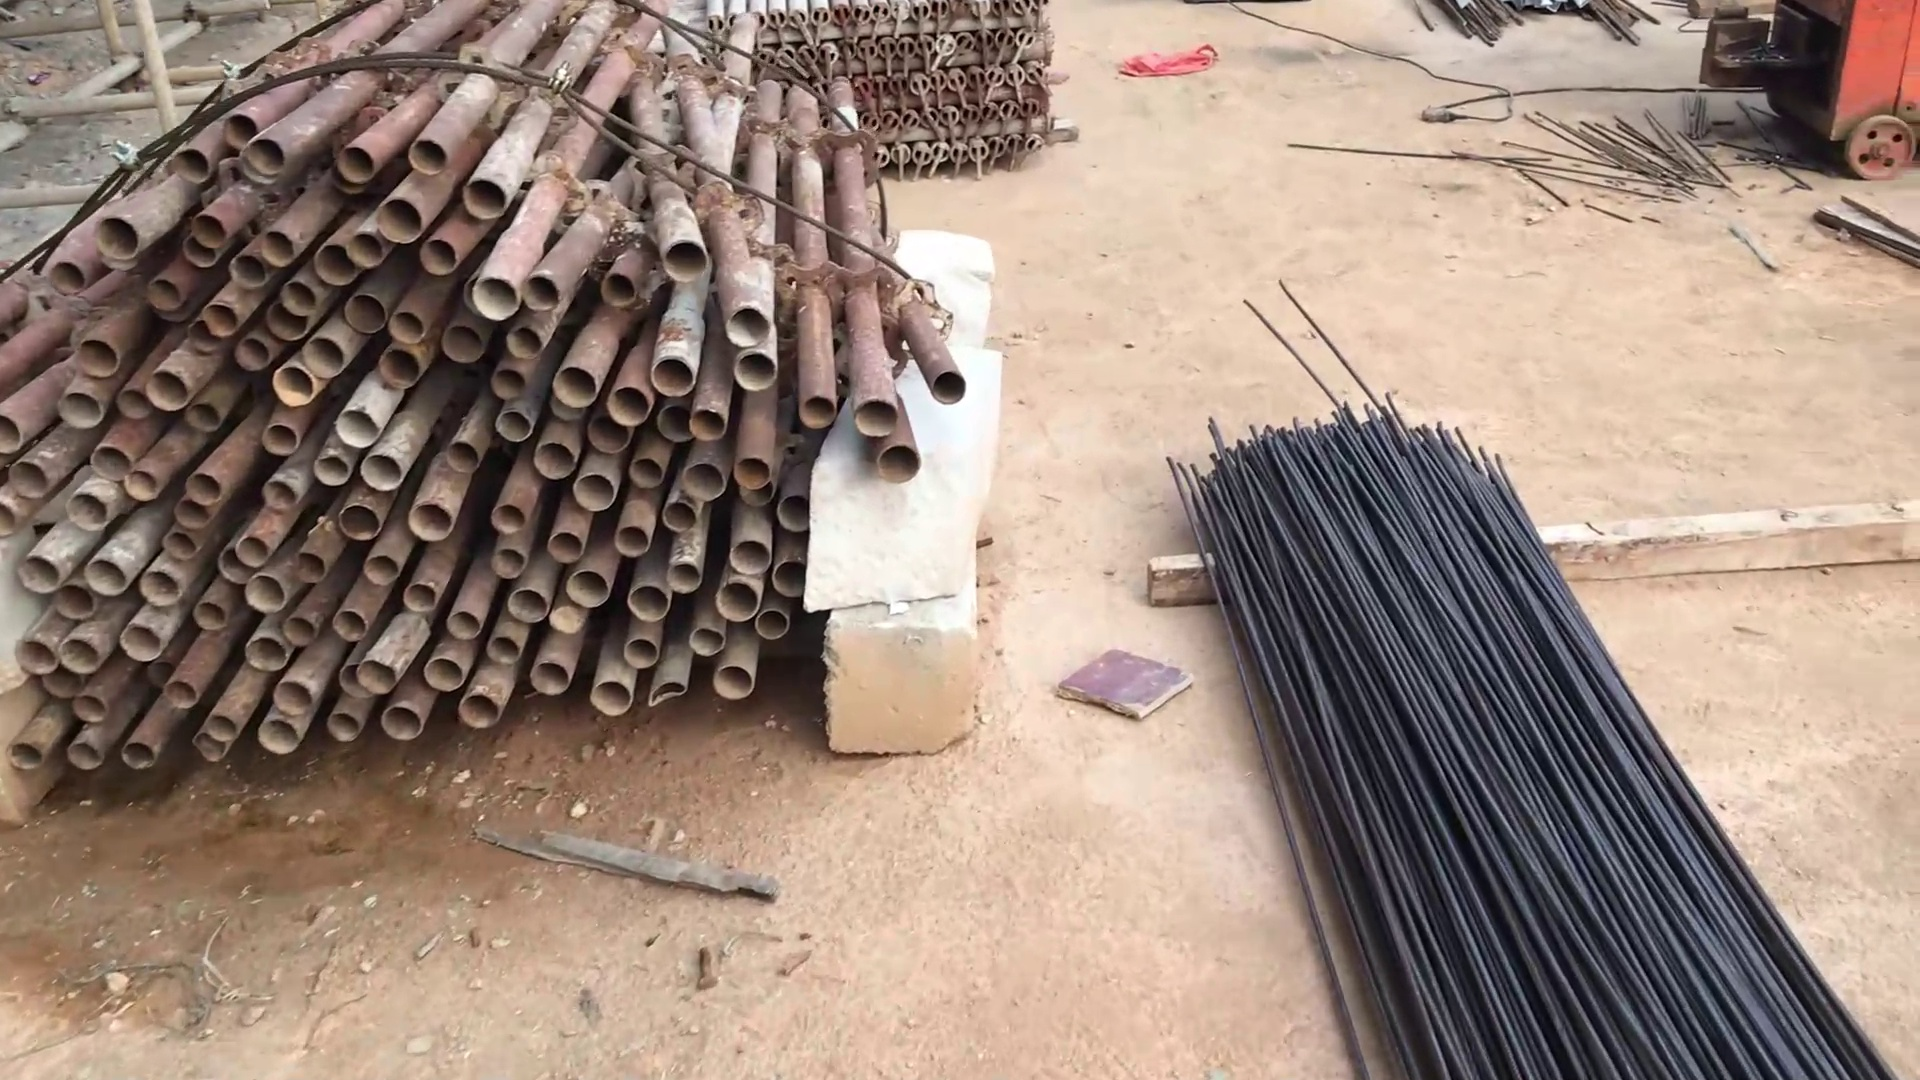rebar: (1147, 382, 1913, 1080)
scaffold: (4, 7, 980, 777), (678, 3, 1085, 177)
